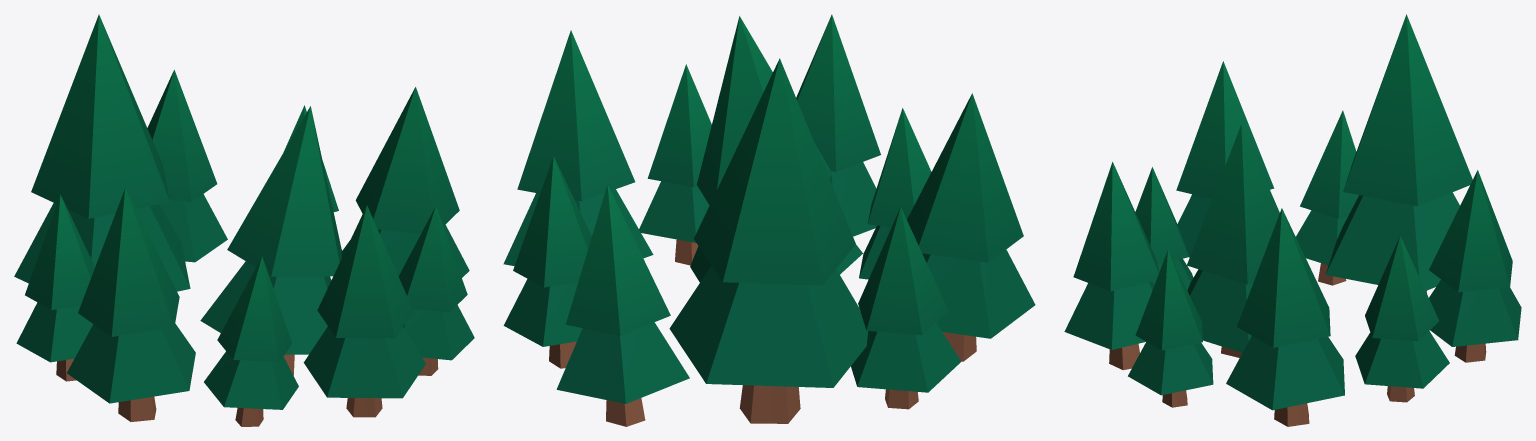
File: H_trees_A_medium.glb
The picture shows the model from 3 angles, left to right: view 1: azimuth 30°, elevation 25°; view 2: azimuth 150°, elevation 25°; view 3: azimuth 270°, elevation 25°; orthographic projection. The views are drawn at different scales.
Visible parts, largest first — view 1: trees_A_medium; view 2: trees_A_medium; view 3: trees_A_medium.
Boxes of the visible parts, x1,y1,x2,y2 form: trees_A_medium: (14, 14, 474, 426); trees_A_medium: (503, 14, 1035, 426); trees_A_medium: (1064, 14, 1521, 426).
Bounding box in the file's own units: 1.75 × 1.3 × 1.81.
